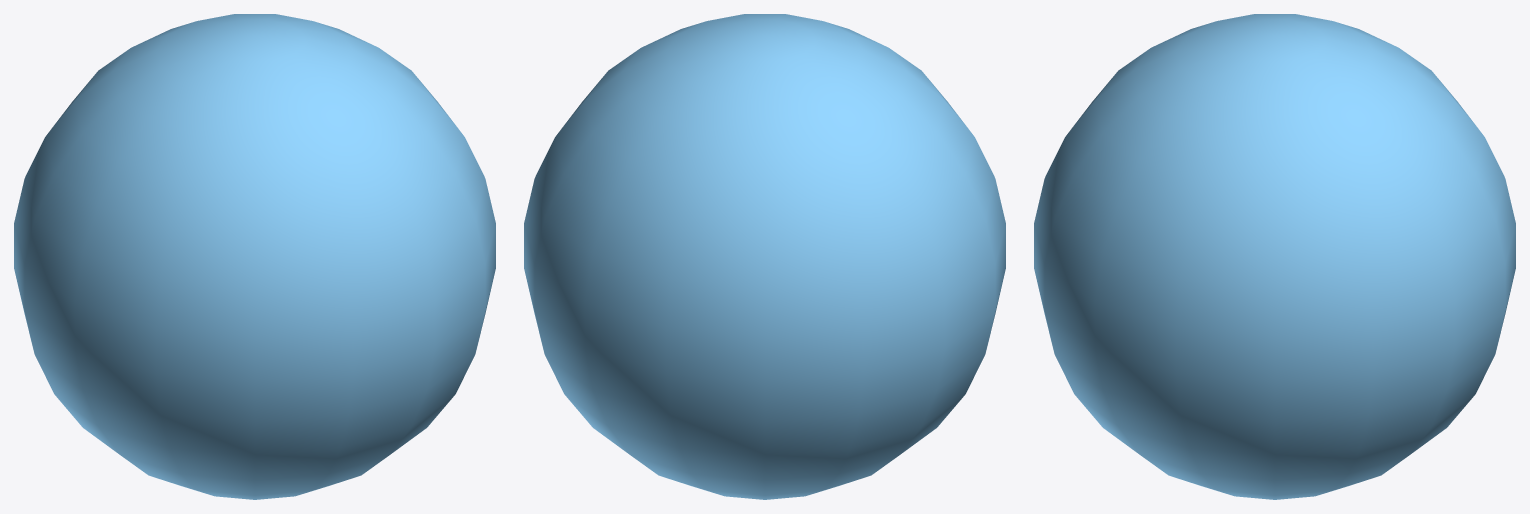
The model's file is JudgeSphereBlue.obj.
3 views of the same model, side by side, from view 1: azimuth 30°, elevation 25°; view 2: azimuth 150°, elevation 25°; view 3: azimuth 270°, elevation 25° (orthographic).
Parts seen in each view (by area): view 1: pSphere1; view 2: pSphere1; view 3: pSphere1.
Part boxes in pixels (x1,y1,x2,y2): pSphere1: (14, 14, 495, 499); pSphere1: (524, 14, 1005, 499); pSphere1: (1034, 14, 1515, 499).
Bounding box in the file's own units: 1.97 × 2 × 1.98.
1 material, 1 textured.
